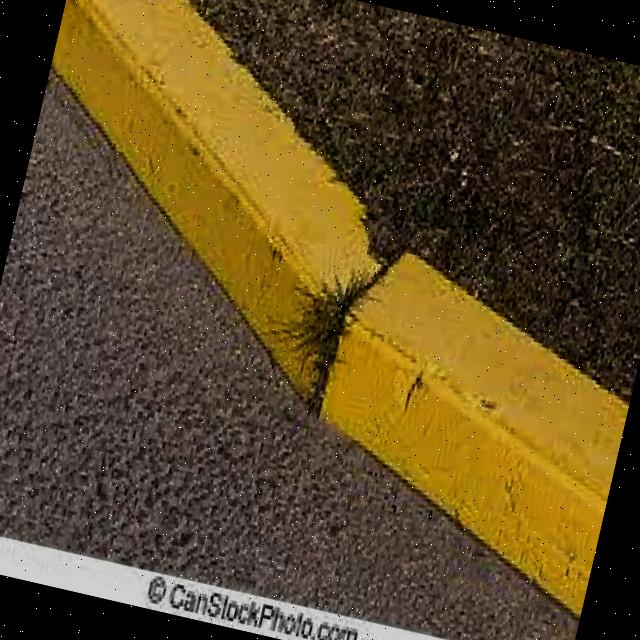curb: (60, 1, 384, 406), (317, 247, 629, 619)
